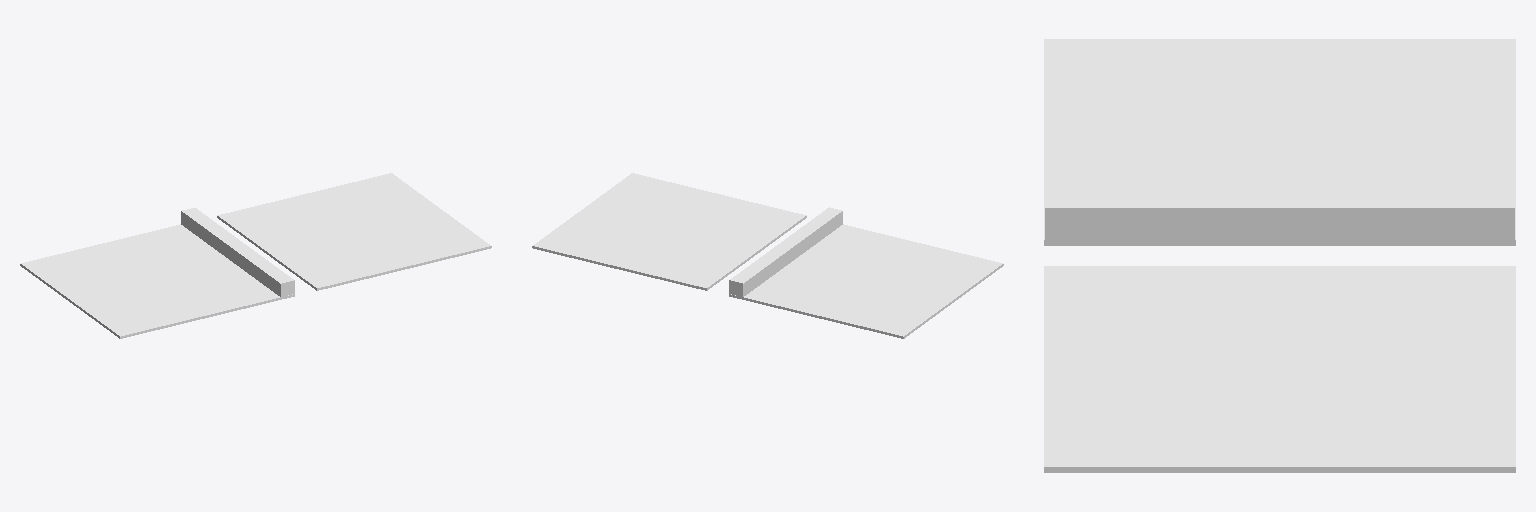
The robot description file, URDF, robot "ground_jump_bar":
<robot name="ground_jump_bar">
  <link name="base_link">
    <visual>
      <origin xyz="0 0 0" rpy="0 0 0" />
      <geometry>
        <mesh filename="package://hpp-rbprm-corba/meshes/ground_jump_bar.stl"/>
      </geometry>
      <material name="white">
        <color rgba="1 1 1 1"/>
      </material>
    </visual>
    <collision>
      <origin xyz="0 0 0" rpy="0 0 0" />
      <geometry>
        <mesh filename="package://hpp-rbprm-corba/meshes/ground_jump_bar.stl"/>
      </geometry>
    </collision>
  </link>
</robot>

--- Render facts (derived) ---
The picture shows the robot from 3 angles, left to right: view 1: azimuth 30°, elevation 25°; view 2: azimuth 150°, elevation 25°; view 3: azimuth 270°, elevation 25°; orthographic projection.
Model ground_jump_bar with 1 links and 0 joints (none), rooted at base_link, posed every joint at zero.
Visible links, largest first — view 1: base_link; view 2: base_link; view 3: base_link.
Boxes of the visible links, x1,y1,x2,y2 form: base_link: [20, 173, 491, 338]; base_link: [532, 173, 1003, 338]; base_link: [1044, 39, 1515, 472].
Size in the robot's own frame: 14.65 by 6.82 by 0.6095 metres.
1 mesh visuals loaded from 1 distinct referenced files (1 binary STL).